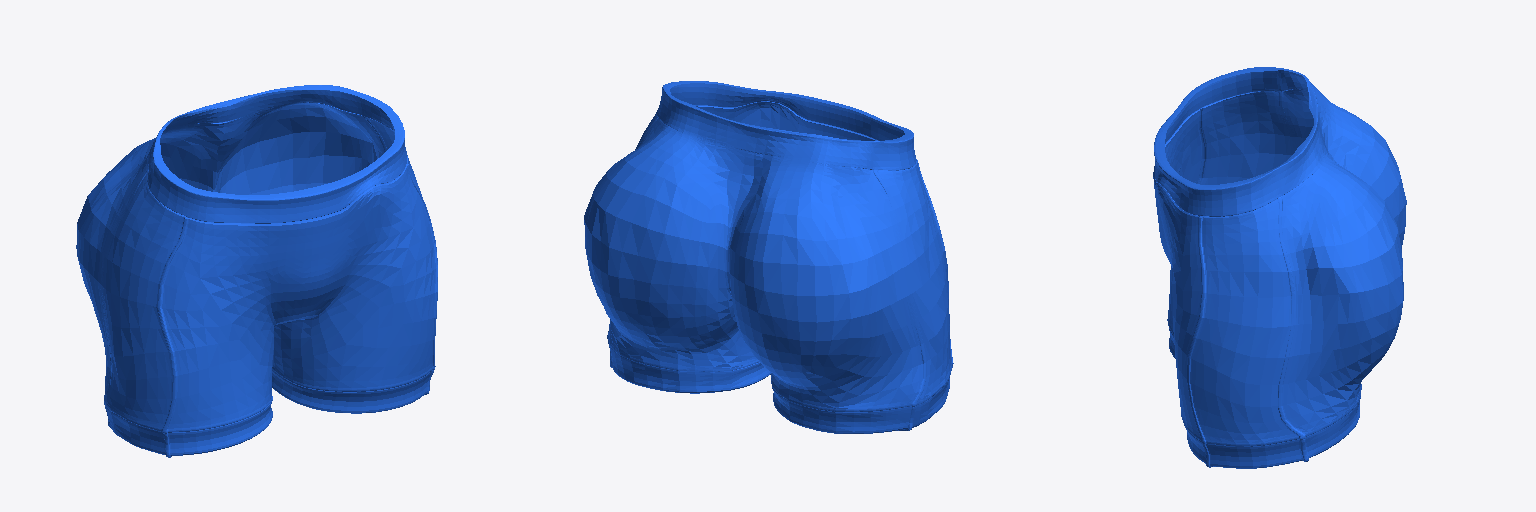
The picture shows the model from 3 angles: view 1: azimuth 30°, elevation 25°; view 2: azimuth 150°, elevation 25°; view 3: azimuth 270°, elevation 25°; orthographic projection.
Parts seen in each view (by area): view 1: ku.001; view 2: ku.001; view 3: ku.001.
Boxes of the visible parts, x1=… form: ku.001: x1=76, y1=85, x2=437, y2=457; ku.001: x1=584, y1=81, x2=953, y2=433; ku.001: x1=1153, y1=67, x2=1406, y2=468.
Bounding box in the file's own units: 4.08 × 3.67 × 2.89.